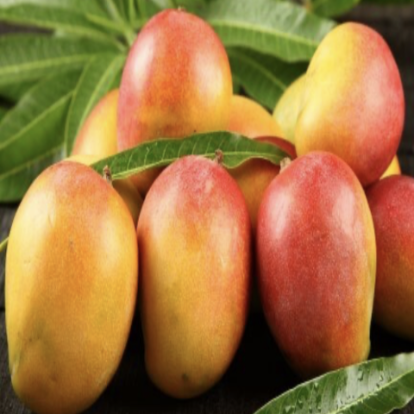mango: (0, 140, 145, 413), (248, 126, 386, 401), (132, 160, 264, 402), (107, 0, 246, 192)
